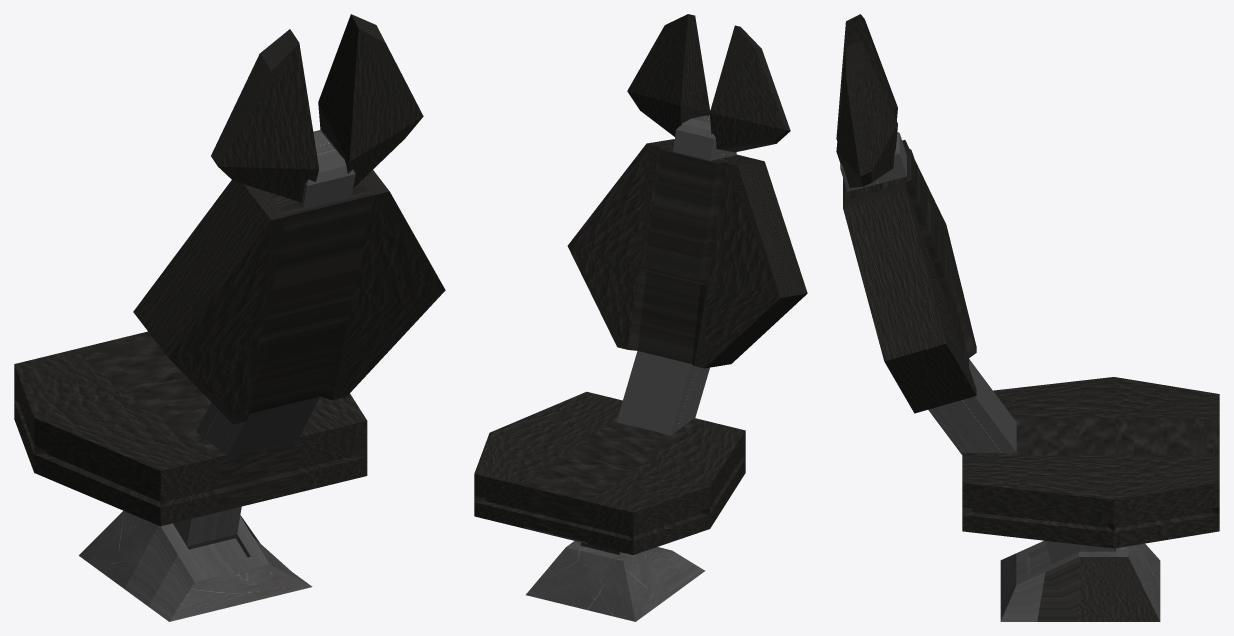
Rendered from Silla3Negra.fbx.
The picture shows the model from 3 angles, left to right: view 1: azimuth 30°, elevation 25°; view 2: azimuth 150°, elevation 25°; view 3: azimuth 270°, elevation 25°; orthographic projection. The views are drawn at different scales.
Visible parts, largest first — view 1: Cube.014; view 2: Cube.014; view 3: Cube.014.
Part boxes in pixels (x1,y1,x2,y2): Cube.014: (14, 14, 445, 621); Cube.014: (474, 14, 807, 621); Cube.014: (836, 14, 1219, 621).
Bounding box in the file's own units: 138 × 295 × 181.
2 materials, 2 textured.
